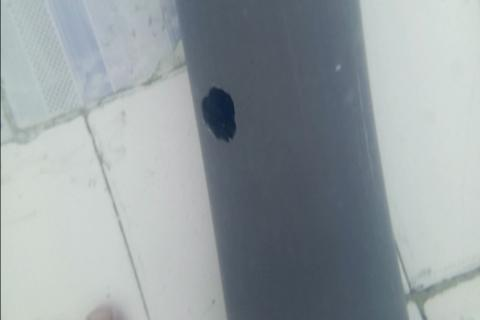kebocoran: (200, 84, 236, 143)
